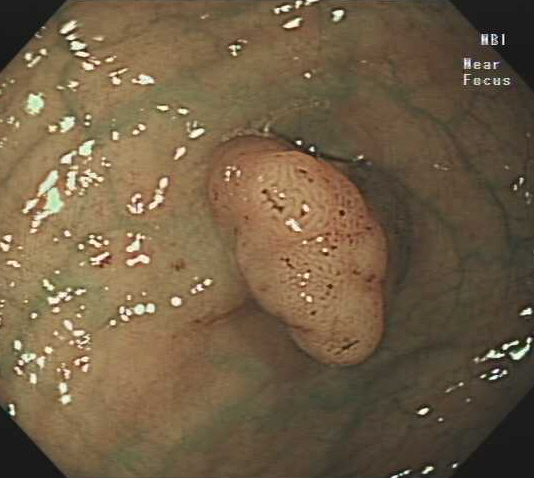adenoma: (203, 131, 392, 373)
